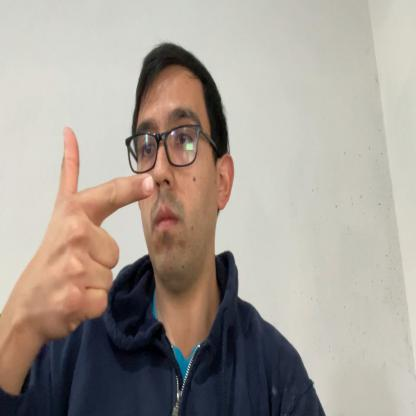G: (42, 126, 154, 338)
